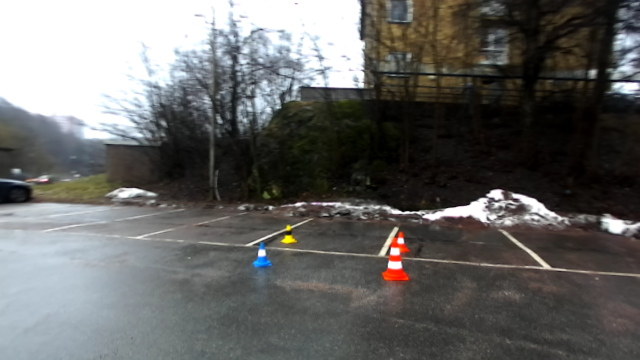blue: (252, 240, 271, 270)
orange: (391, 229, 410, 254)
orange2: (381, 237, 408, 283)
yellow: (280, 222, 297, 248)
